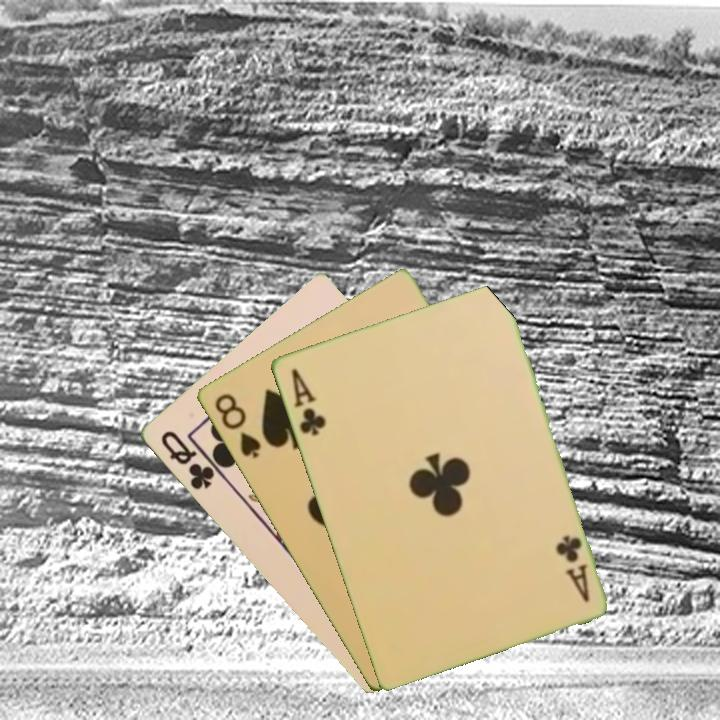8s: (210, 389, 264, 461)
Ac: (287, 364, 328, 439), (552, 531, 592, 605)
Qc: (156, 427, 225, 493)
